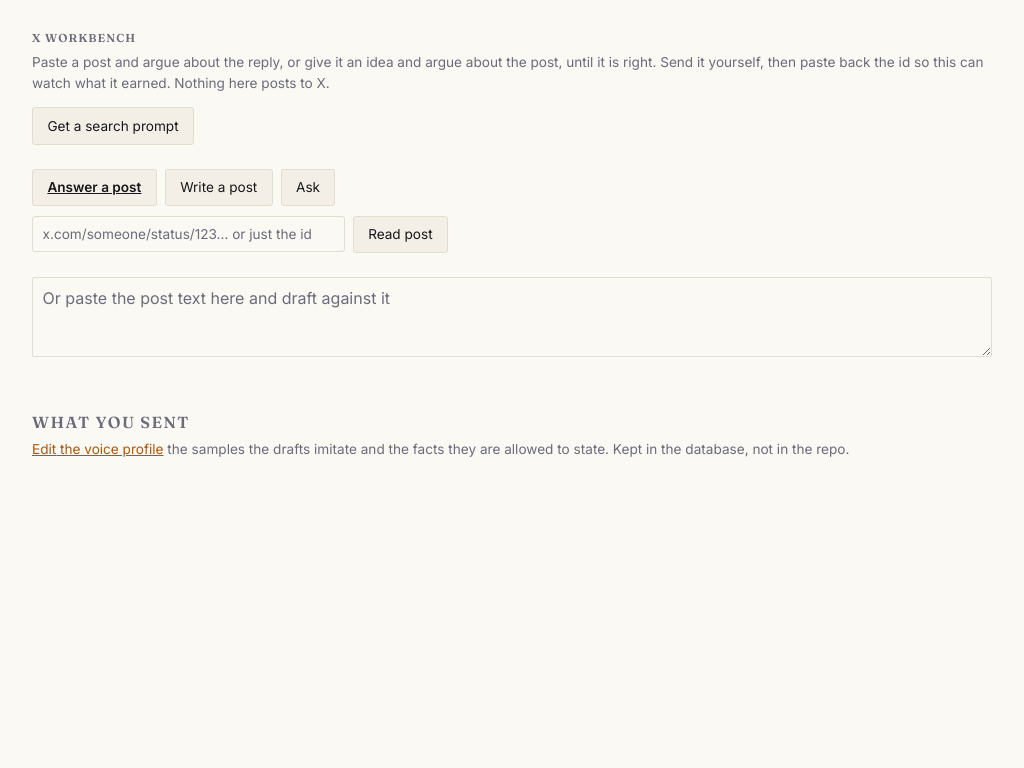
Test: the X workbench › pushing back sends the whole argument, not just the last word
Type "42" into the field with placeholder "x.com/someone/status/123... or just the id" at (188, 234), box [32, 216, 345, 252]
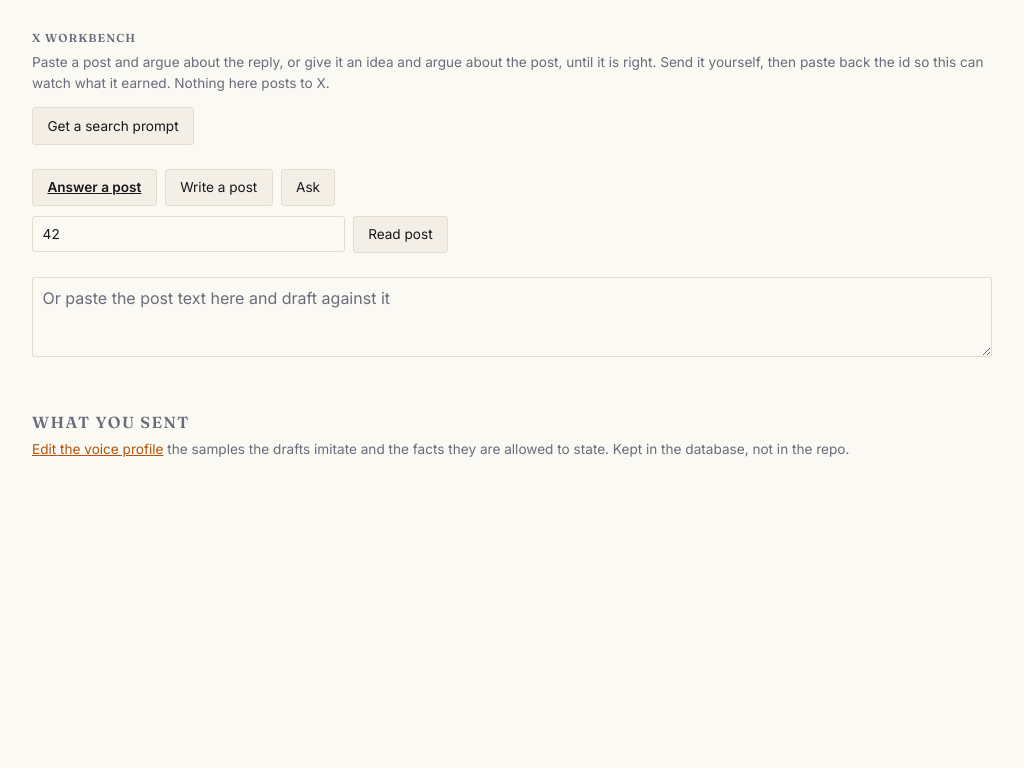
Click the button "Read post" at (400, 235), box [353, 216, 448, 253]
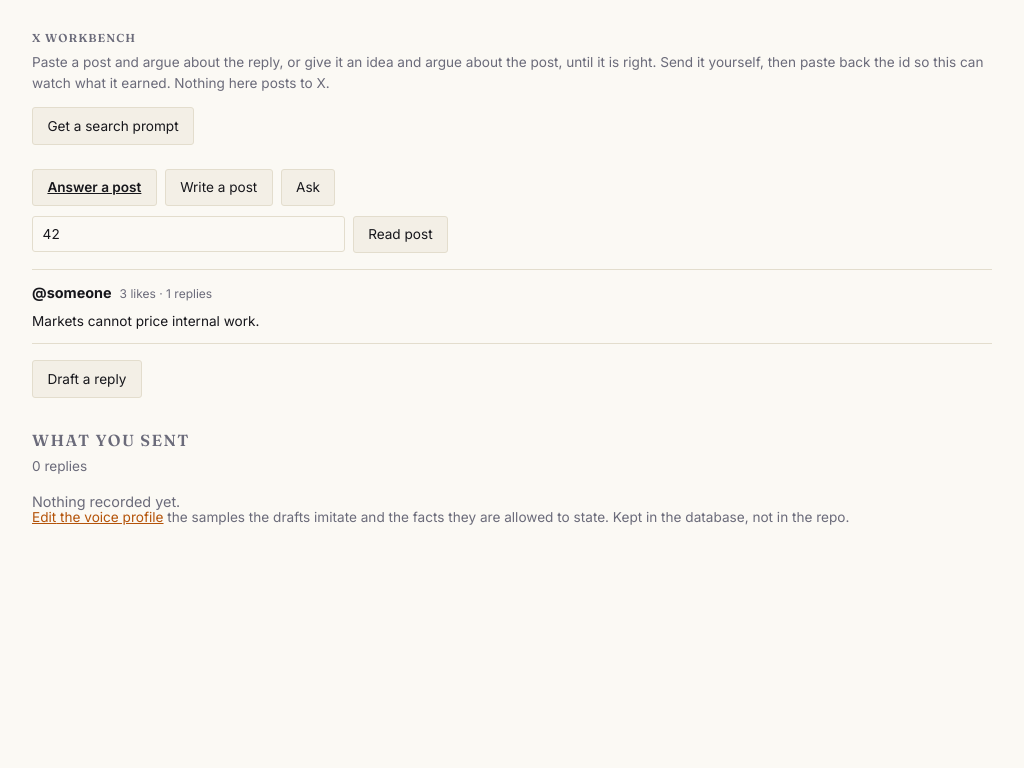
Expected: the text "Markets cannot price internal work." is shown, [32, 313, 260, 329]
Click the button "Draft a reply" at (87, 379), box [32, 360, 142, 398]
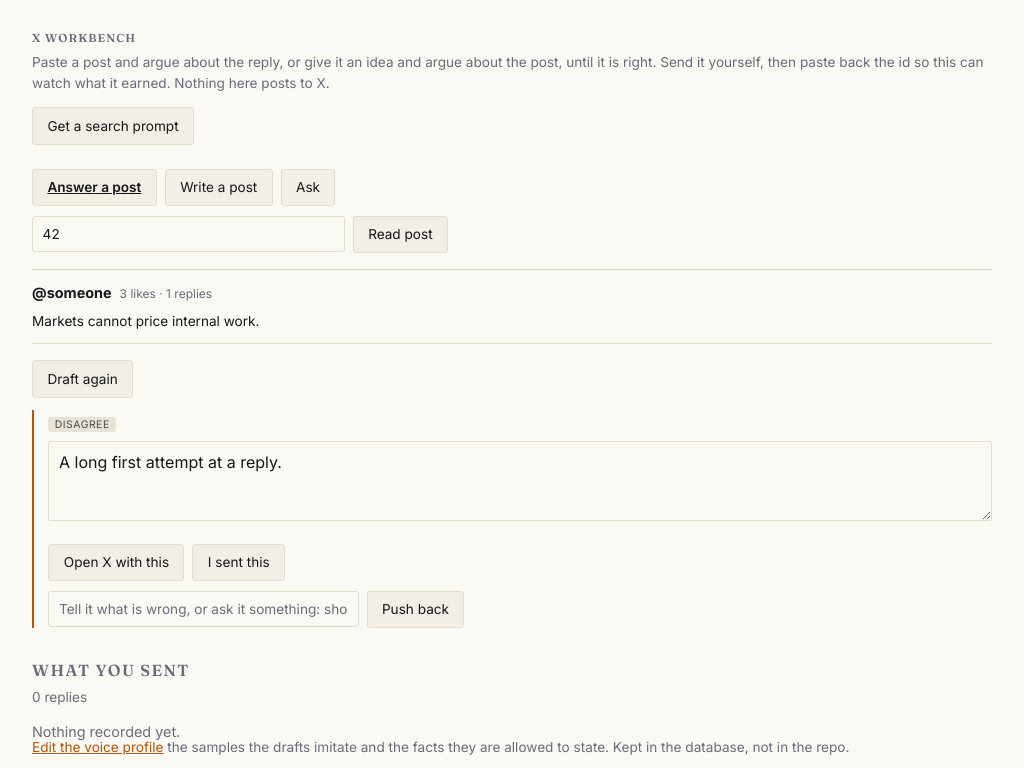
Expected: the text box showing "A long first attempt" is shown, [48, 441, 992, 521]
Replace the text in the field with placeholder "what is wrong" with "shorter" at (203, 609), box [48, 591, 358, 627]
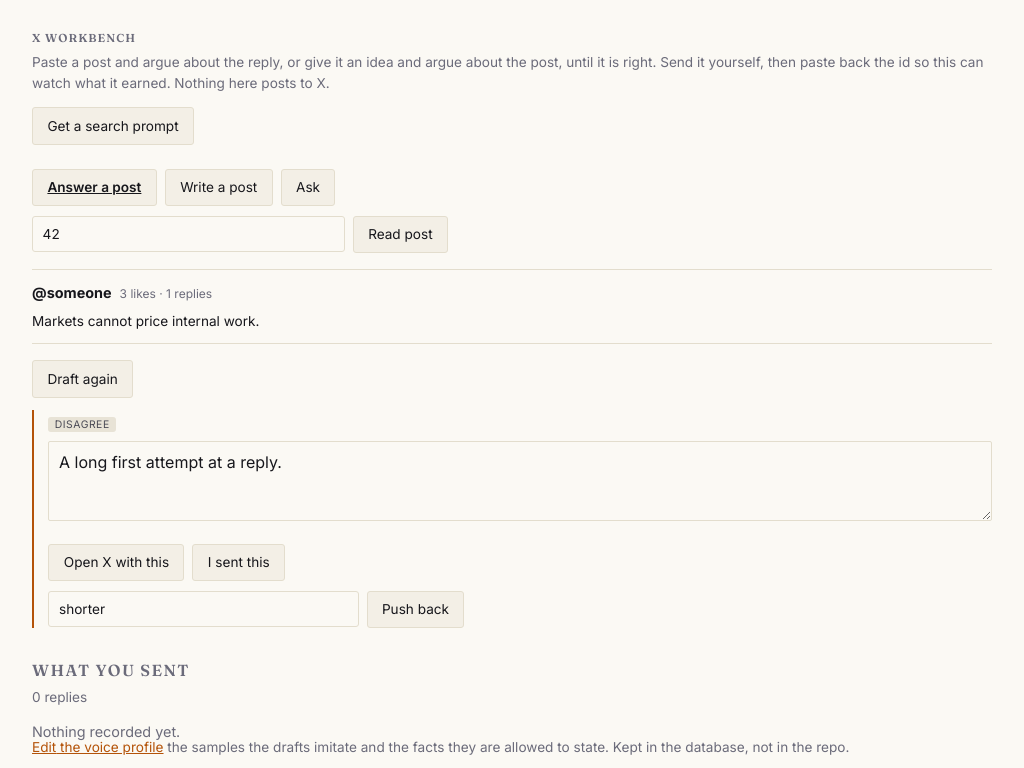
Click the button "Push back" at (415, 610), box [366, 591, 464, 628]
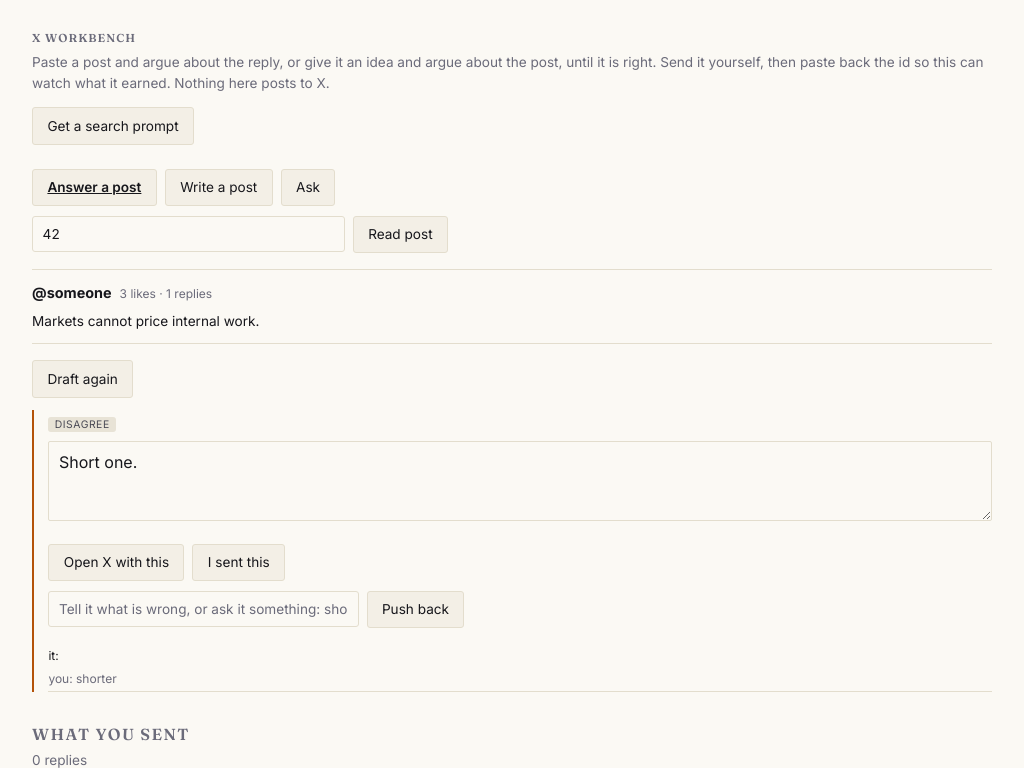
Expected: the text box showing "Short one." is shown, [48, 441, 992, 521]
